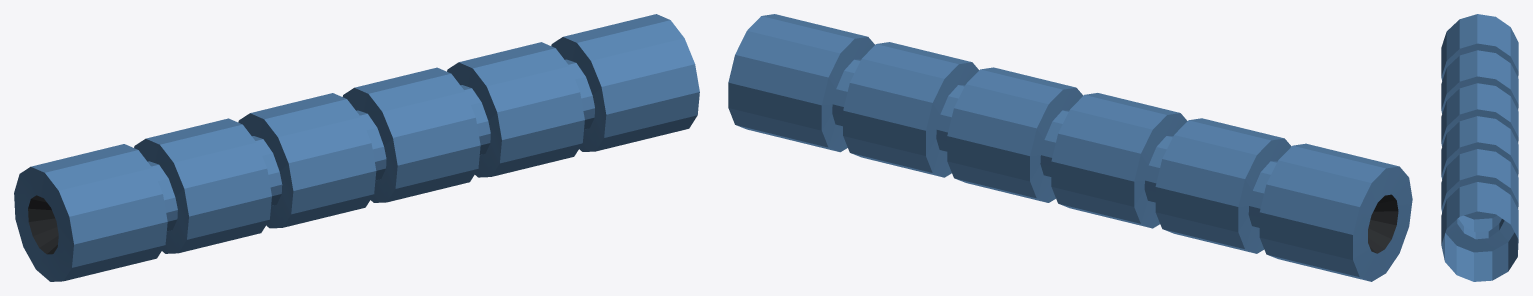
Rendered from Dulo.fbx.
The picture shows the model from 3 angles, left to right: view 1: azimuth 30°, elevation 25°; view 2: azimuth 150°, elevation 25°; view 3: azimuth 270°, elevation 25°; orthographic projection. The views are drawn at different scales.
Parts seen in each view (by area): view 1: Cylinder; view 2: Cylinder; view 3: Cylinder.
Boxes of the visible parts, x1,y1,x2,y2 form: Cylinder: (14,14,699,281); Cylinder: (728,14,1412,281); Cylinder: (1441,14,1518,281).
Bounding box in the file's own units: 0.0413 × 0.0411 × 0.2507.
